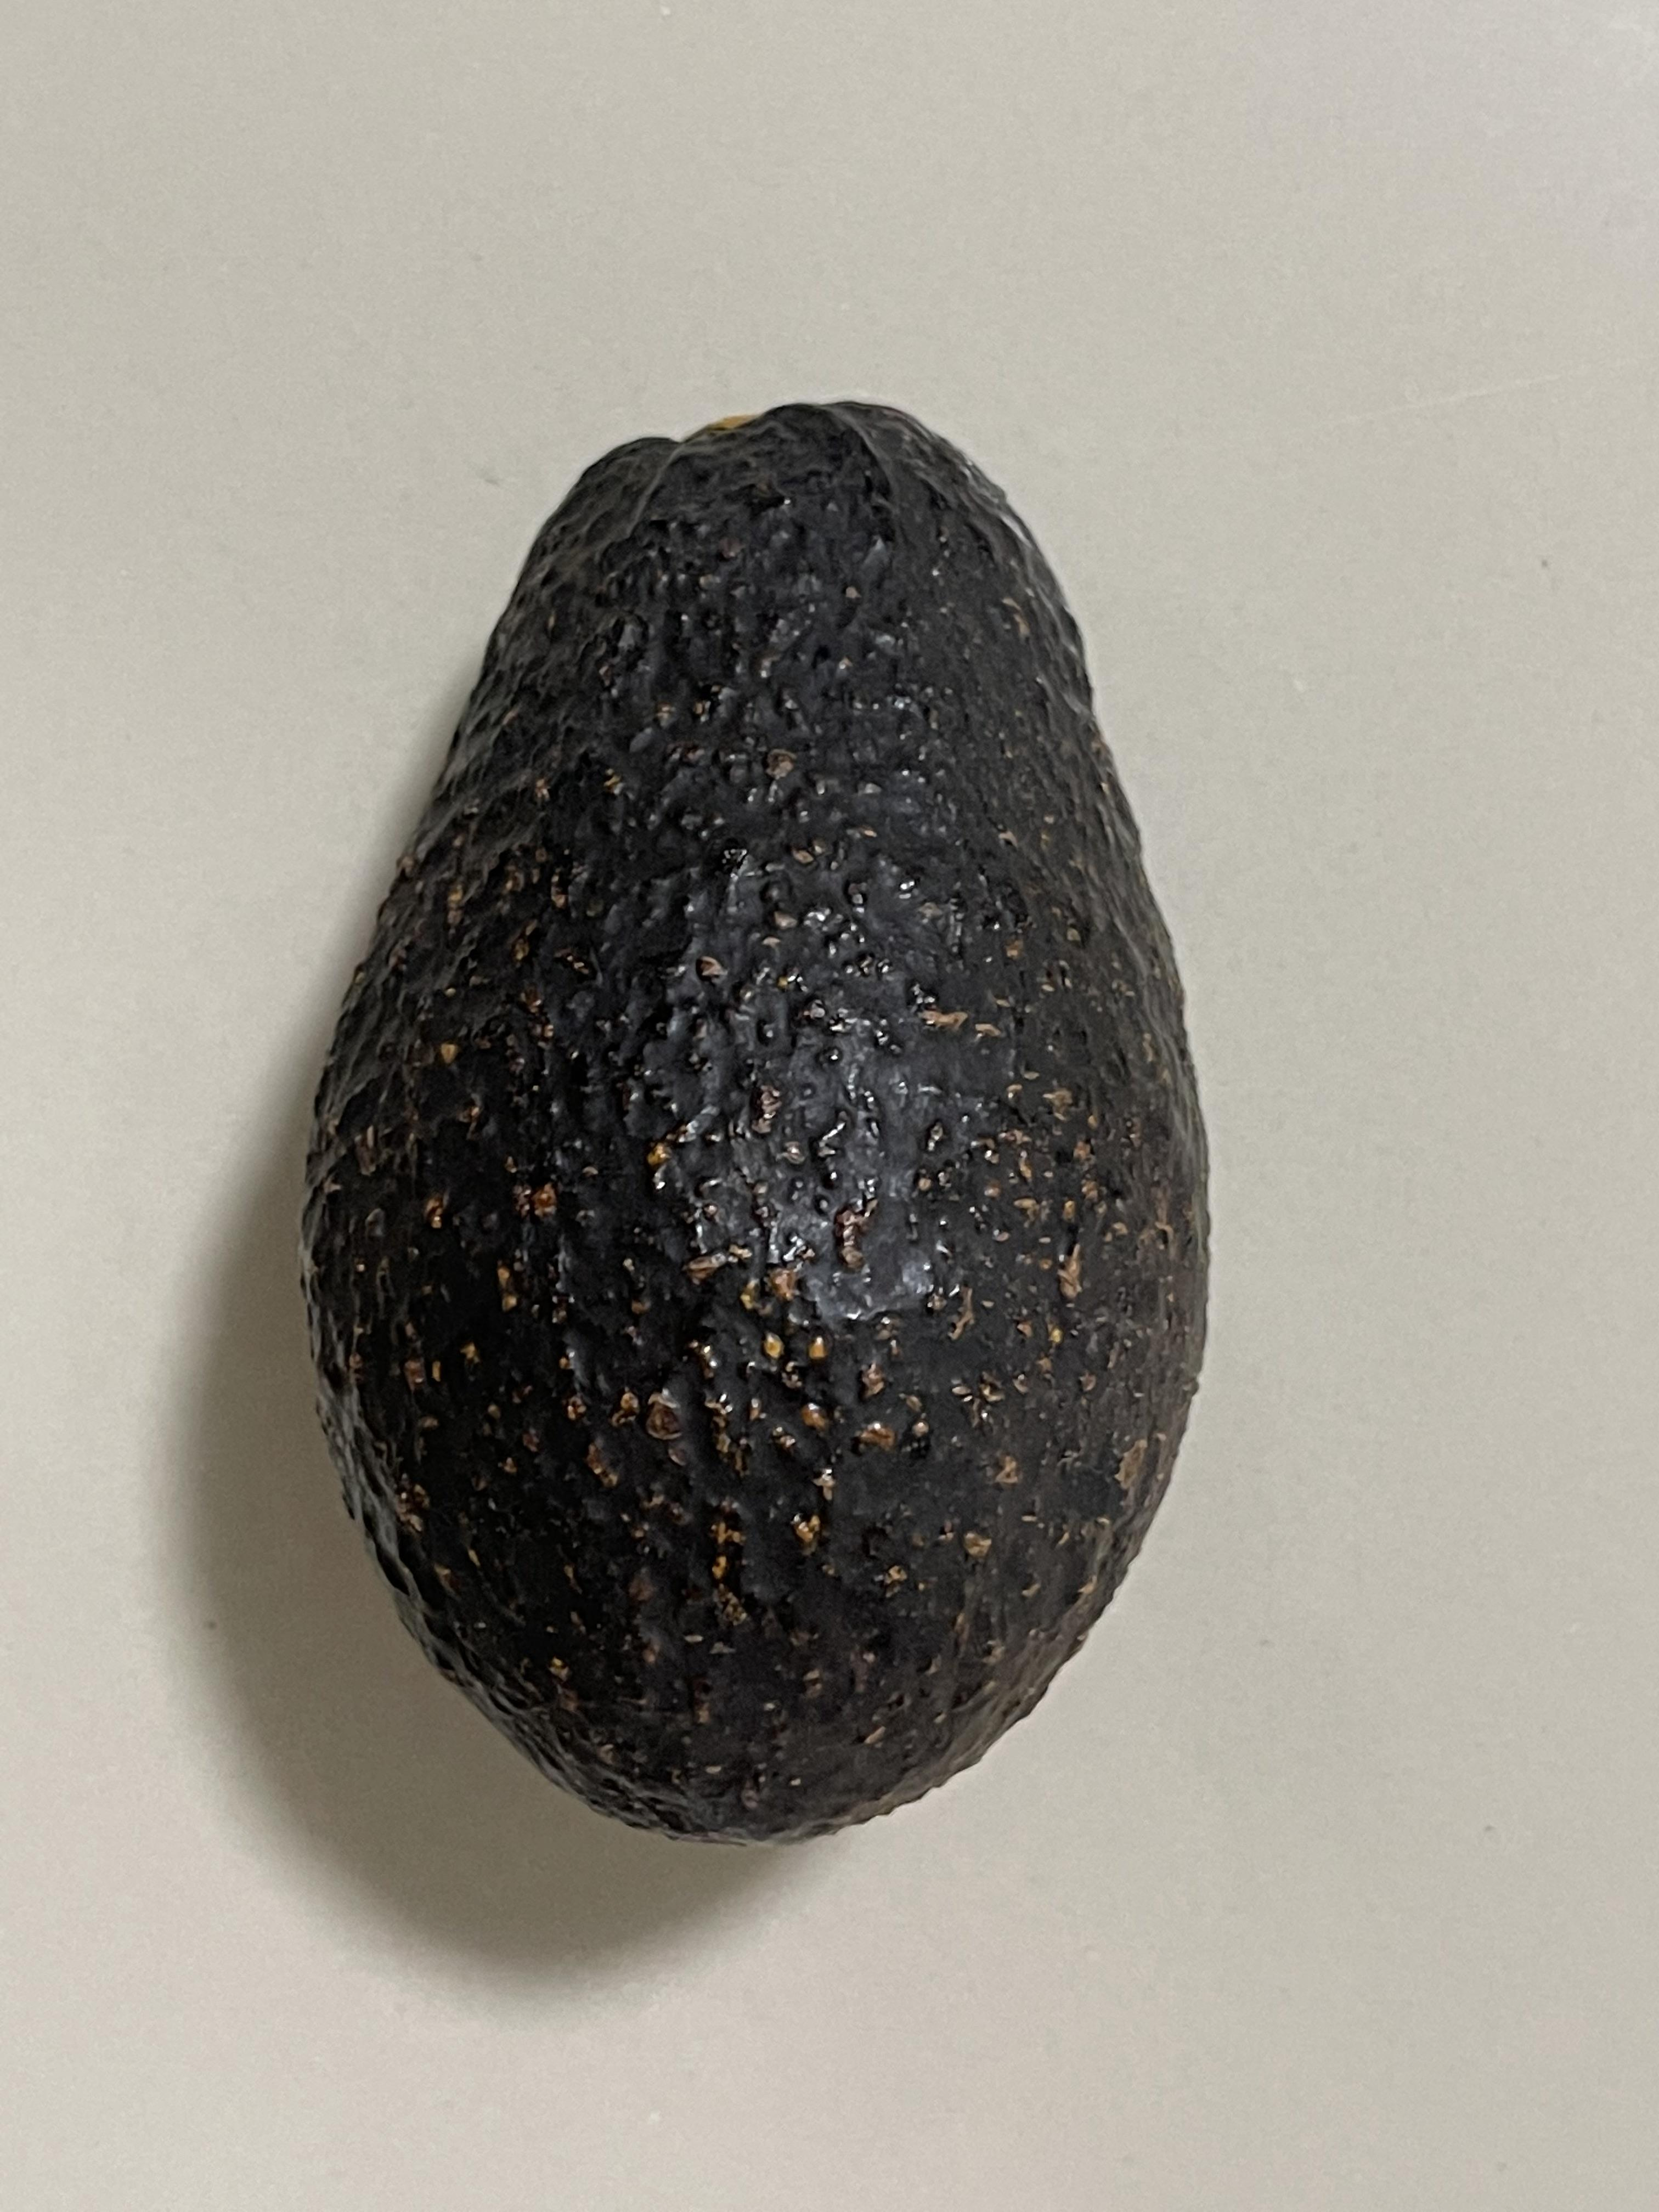Level2: (291, 383, 1237, 1867)
